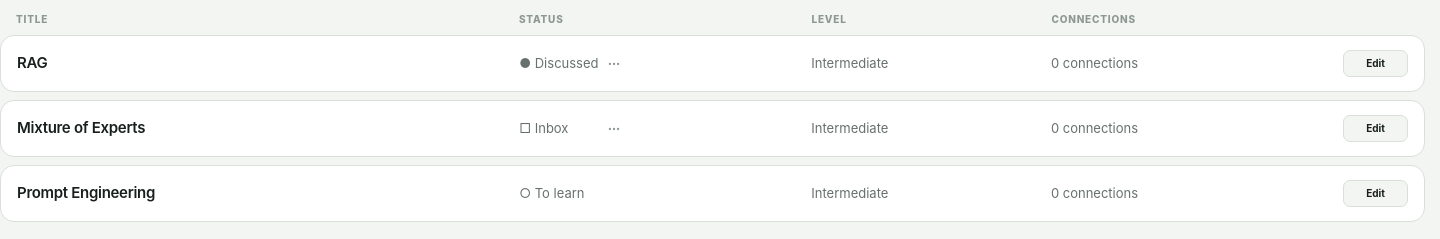
Scenario: AdminTopicList › offers a To Learn reset for curriculum progress, not inbox
expect the text "Status" is shown: met, box left=519, top=13, right=564, bottom=25
expect the text "Level" is shown: met, box left=812, top=13, right=847, bottom=25
Click the button with test id "reset-to-learn-rag" at (614, 64), box left=603, top=52, right=625, bottom=74
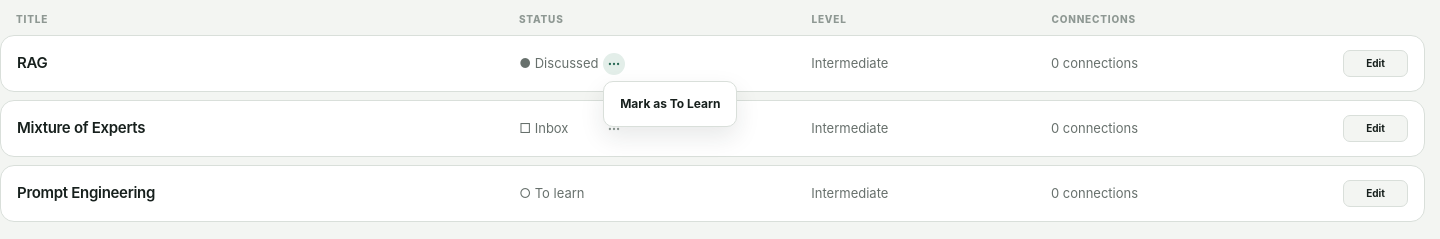
expect the button "Mark as To Learn" is shown: met, box left=610, top=88, right=730, bottom=120
Press the mouse on the element that starts with "Title" at (712, 117), box left=0, top=12, right=1425, bottom=222
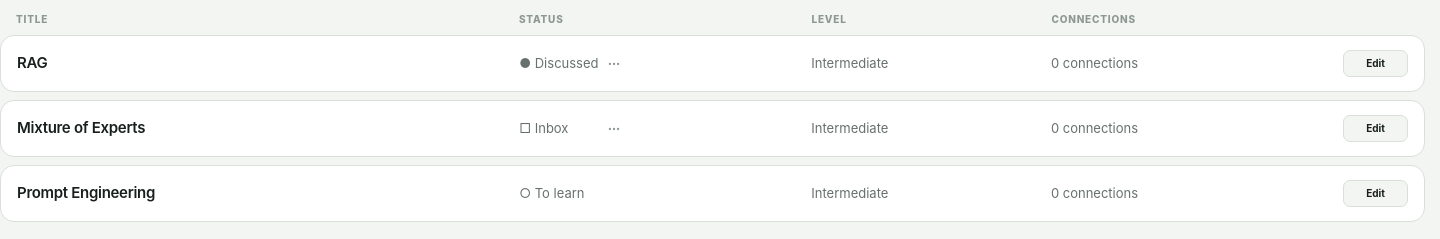
expect the button "Mark as To Learn" is gone: met
Click the button with test id "delete-inbox-mixture-of-experts" at (614, 128), box left=603, top=118, right=625, bottom=140
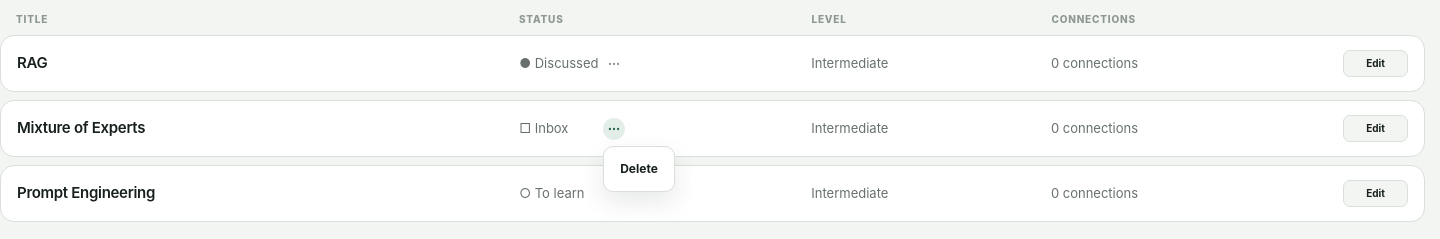
expect the button "Delete" is shown: met, box left=610, top=152, right=668, bottom=184
